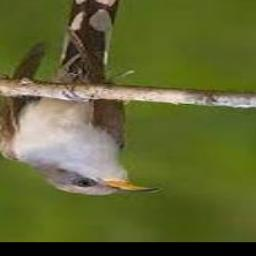Cuckoo: (0, 0, 162, 195)
